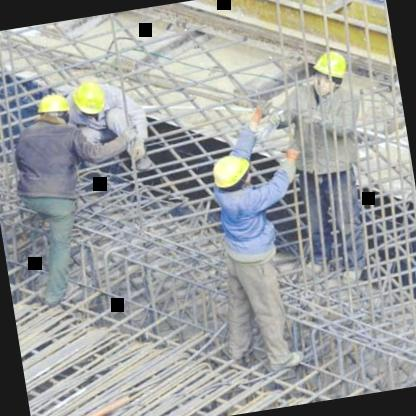helmet: (210, 148, 260, 197), (308, 47, 351, 97), (69, 75, 112, 124), (30, 90, 74, 131)
